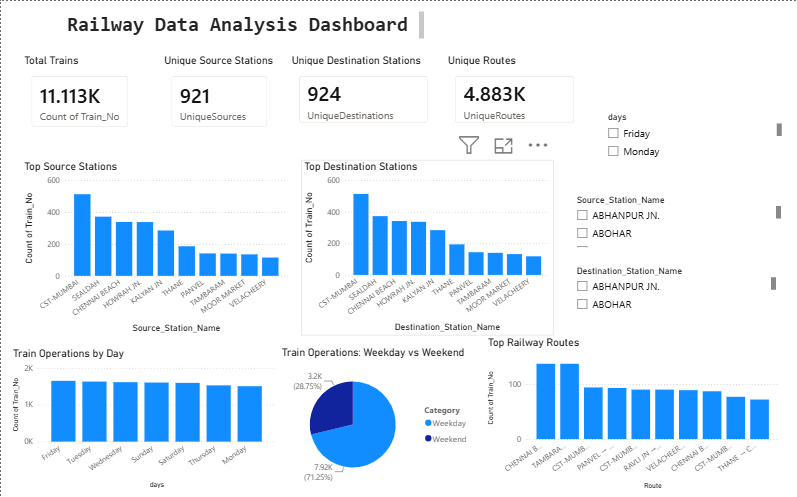

What the dashboard file says about the page in this screenshot:
{"tool":"powerbi","page":{"name":"Page 1","canvas":[1280,800],"ordinal":0},"visuals":[{"type":"cardVisual","title":"Total Trains","fields":{"Data":["CountNonNull(enriched_railway_data.Train_No)"]},"box":[32.6,84.2,188.9,134.5],"z":0},{"type":"cardVisual","title":"Unique Source Stations","fields":{"Data":["enriched_railway_data.UniqueSources"]},"box":[256.8,84.2,187.5,134.5],"z":1000},{"type":"cardVisual","title":"Unique Destination Stations","fields":{"Data":["enriched_railway_data.UniqueDestinations"]},"box":[460.6,84.2,240.5,129.1],"z":2000},{"type":"cardVisual","title":"Unique Routes","fields":{"Data":["enriched_railway_data.UniqueRoutes"]},"box":[710.6,84.2,224.2,129.1],"z":3000},{"type":"clusteredColumnChart","title":"Top Source Stations","fields":{"Category":["enriched_railway_data.Source_Station_Name"],"Y":["CountNonNull(enriched_railway_data.Train_No)"]},"box":[32.1,253.7,431,282.8],"z":4000},{"type":"clusteredColumnChart","title":"Top Destination Stations","fields":{"Category":["enriched_railway_data.Destination_Station_Name"],"Y":["CountNonNull(enriched_railway_data.Train_No)"]},"box":[481,254.1,402.2,281.3],"z":5000},{"type":"clusteredColumnChart","title":"Train Operations by Day","fields":{"Category":["enriched_railway_data.days"],"Y":["CountNonNull(enriched_railway_data.Train_No)"]},"box":[14.9,554.4,429.4,231],"z":6000},{"type":"pieChart","title":"Train Operations: Weekday vs Weekend","fields":{"Category":["enriched_railway_data.Category"],"Y":["CountNonNull(enriched_railway_data.Train_No)"]},"box":[444.3,553,315.2,232.3],"z":7000},{"type":"clusteredColumnChart","title":"Top Railway Routes","fields":{"Category":["enriched_railway_data.Route"],"Y":["CountNonNull(enriched_railway_data.Train_No)"]},"box":[774.5,536.7,475.5,250],"z":8000},{"type":"slicer","fields":{"Values":["enriched_railway_data.days"]},"box":[957.9,172.6,296.2,91],"z":9000},{"type":"slicer","fields":{"Values":["enriched_railway_data.Source_Station_Name"]},"box":[909,304.3,345.1,95.1],"z":10000},{"type":"slicer","fields":{"Values":["enriched_railway_data.Destination_Station_Name"]},"box":[909,418.5,337,82.9],"z":11000},{"type":"textbox","box":[100,11.4,581.4,58.6],"z":12000}]}

Visuals, with their boxes in screenshot pixels (x1, y1, x2, y2), scaled from the page's 1280x800 canvas onto the 797x497 screenshot:
"Total Trains" cardVisual: {"left": 20, "top": 52, "right": 138, "bottom": 136}
"Unique Source Stations" cardVisual: {"left": 160, "top": 52, "right": 277, "bottom": 136}
"Unique Destination Stations" cardVisual: {"left": 287, "top": 52, "right": 437, "bottom": 133}
"Unique Routes" cardVisual: {"left": 442, "top": 52, "right": 582, "bottom": 133}
"Top Source Stations" clusteredColumnChart: {"left": 20, "top": 158, "right": 288, "bottom": 333}
"Top Destination Stations" clusteredColumnChart: {"left": 299, "top": 158, "right": 550, "bottom": 333}
"Train Operations by Day" clusteredColumnChart: {"left": 9, "top": 344, "right": 277, "bottom": 488}
"Train Operations: Weekday vs Weekend" pieChart: {"left": 277, "top": 344, "right": 473, "bottom": 488}
"Top Railway Routes" clusteredColumnChart: {"left": 482, "top": 333, "right": 778, "bottom": 489}
slicer - enriched_railway_data.days: {"left": 596, "top": 107, "right": 781, "bottom": 164}
slicer - enriched_railway_data.Source_Station_Name: {"left": 566, "top": 189, "right": 781, "bottom": 248}
slicer - enriched_railway_data.Destination_Station_Name: {"left": 566, "top": 260, "right": 776, "bottom": 311}
textbox: {"left": 62, "top": 7, "right": 424, "bottom": 43}
